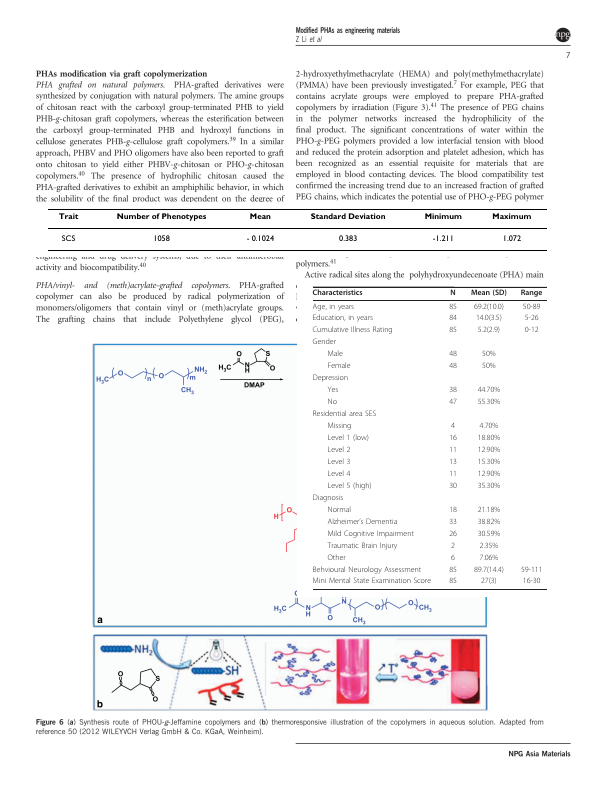borderless: (312, 285, 547, 589), (47, 207, 547, 250)
cell: (312, 577, 432, 587), (312, 565, 422, 575), (326, 529, 415, 539), (115, 212, 207, 221), (312, 326, 394, 336), (326, 517, 398, 527), (326, 541, 398, 551), (309, 212, 386, 221), (312, 314, 374, 324), (312, 410, 377, 419), (312, 289, 363, 298), (312, 302, 355, 312), (326, 482, 373, 491), (326, 434, 370, 443), (491, 212, 532, 221), (423, 212, 462, 221), (470, 289, 508, 298), (312, 374, 349, 383), (473, 302, 505, 312), (473, 565, 505, 575), (312, 494, 344, 503), (475, 314, 503, 324), (326, 505, 352, 515), (312, 338, 337, 348), (477, 326, 501, 336), (477, 505, 501, 515), (477, 517, 501, 527), (477, 529, 501, 539), (245, 234, 275, 242), (326, 422, 352, 431), (520, 565, 543, 575), (326, 362, 351, 371), (326, 446, 351, 455), (326, 458, 351, 467), (326, 470, 351, 479), (477, 386, 501, 395), (477, 398, 501, 407), (477, 434, 501, 443), (477, 446, 501, 455), (477, 458, 501, 467), (477, 470, 501, 479), (477, 482, 501, 491), (478, 541, 499, 551), (326, 553, 347, 563), (478, 553, 499, 563), (520, 289, 543, 298), (248, 212, 271, 221), (57, 212, 79, 221), (522, 302, 541, 312), (522, 577, 541, 587), (478, 422, 499, 431), (431, 234, 454, 242), (326, 350, 344, 360), (480, 577, 498, 587), (501, 234, 522, 242), (338, 234, 358, 242), (524, 314, 539, 324), (524, 326, 539, 336), (481, 350, 496, 360), (152, 234, 170, 242), (481, 362, 496, 371), (60, 234, 76, 242), (326, 386, 339, 395), (326, 398, 338, 407), (448, 302, 458, 312), (448, 314, 458, 324), (448, 326, 458, 336), (448, 350, 458, 360), (448, 505, 458, 515), (448, 517, 458, 527), (448, 529, 458, 539), (448, 565, 458, 575), (448, 577, 458, 587), (448, 362, 458, 371), (448, 386, 458, 395), (448, 398, 458, 407), (448, 434, 458, 443), (448, 446, 458, 455), (448, 458, 458, 467), (448, 470, 458, 479), (448, 482, 458, 491), (449, 289, 457, 298), (450, 541, 456, 551), (450, 553, 456, 563), (450, 422, 456, 431)
